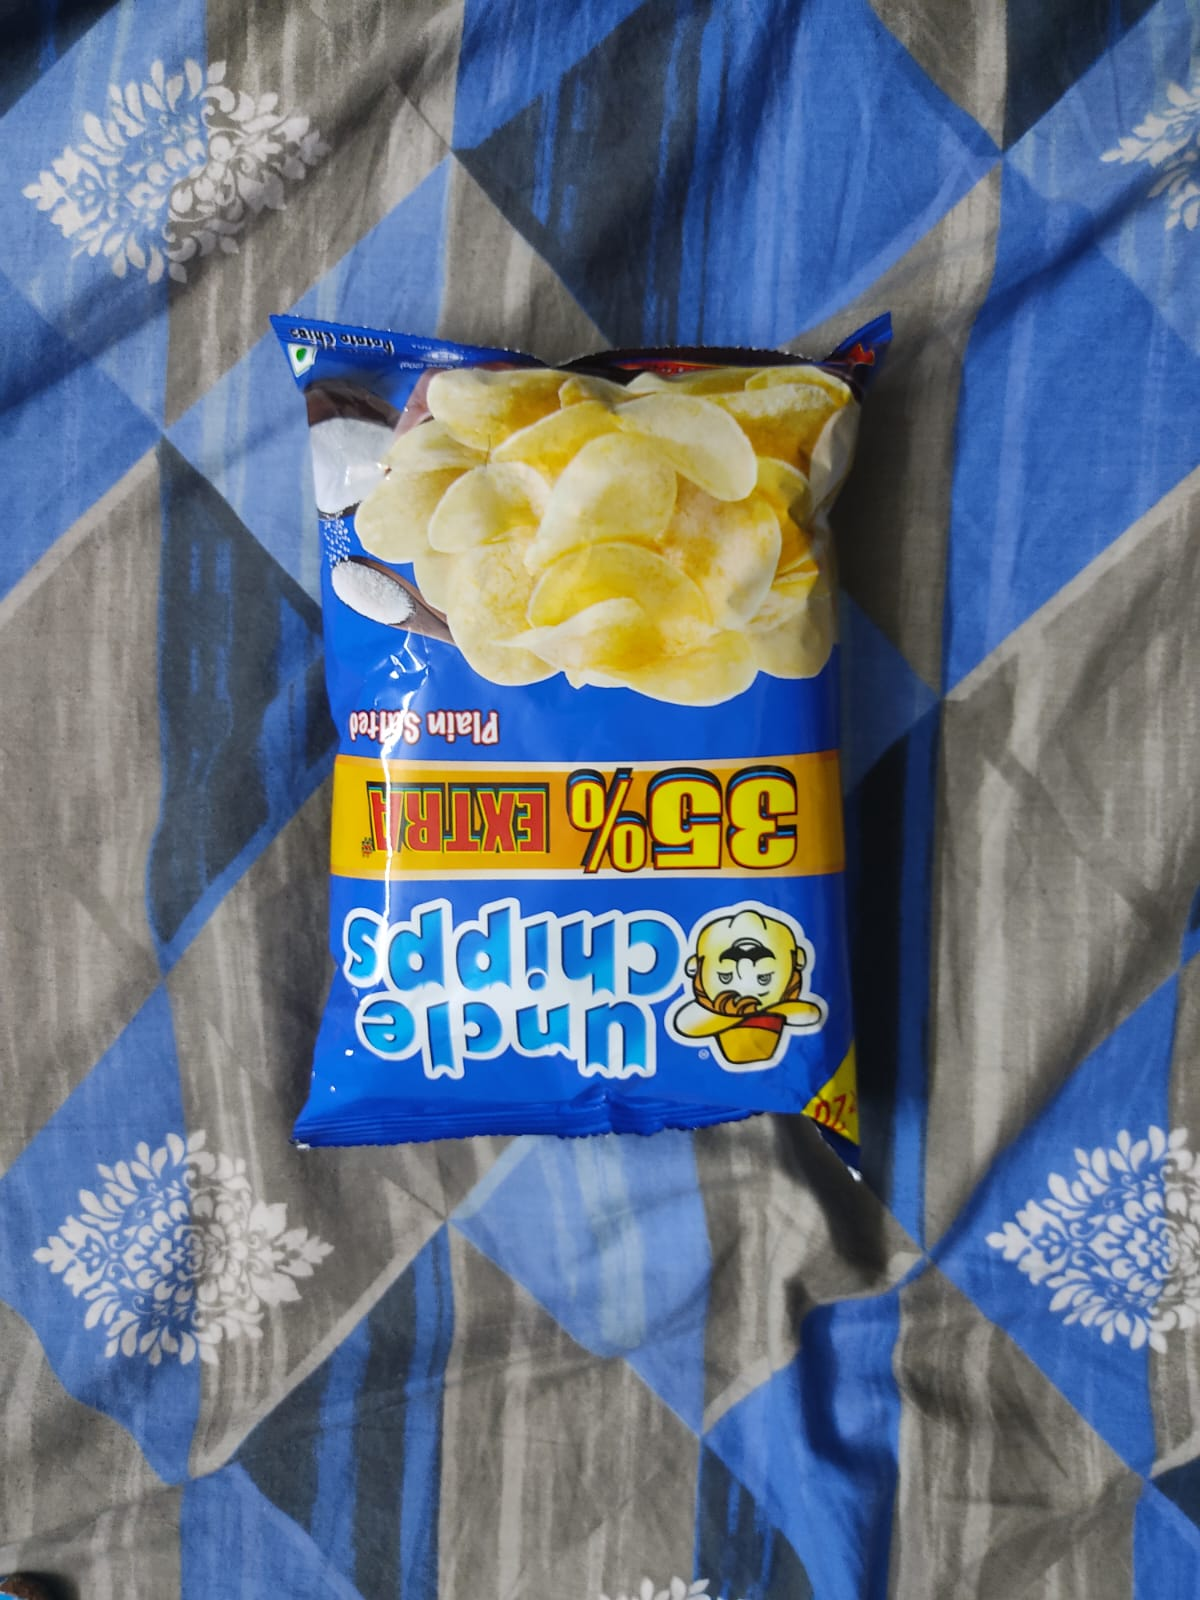020_UncleChips: (289, 341, 870, 1143)
